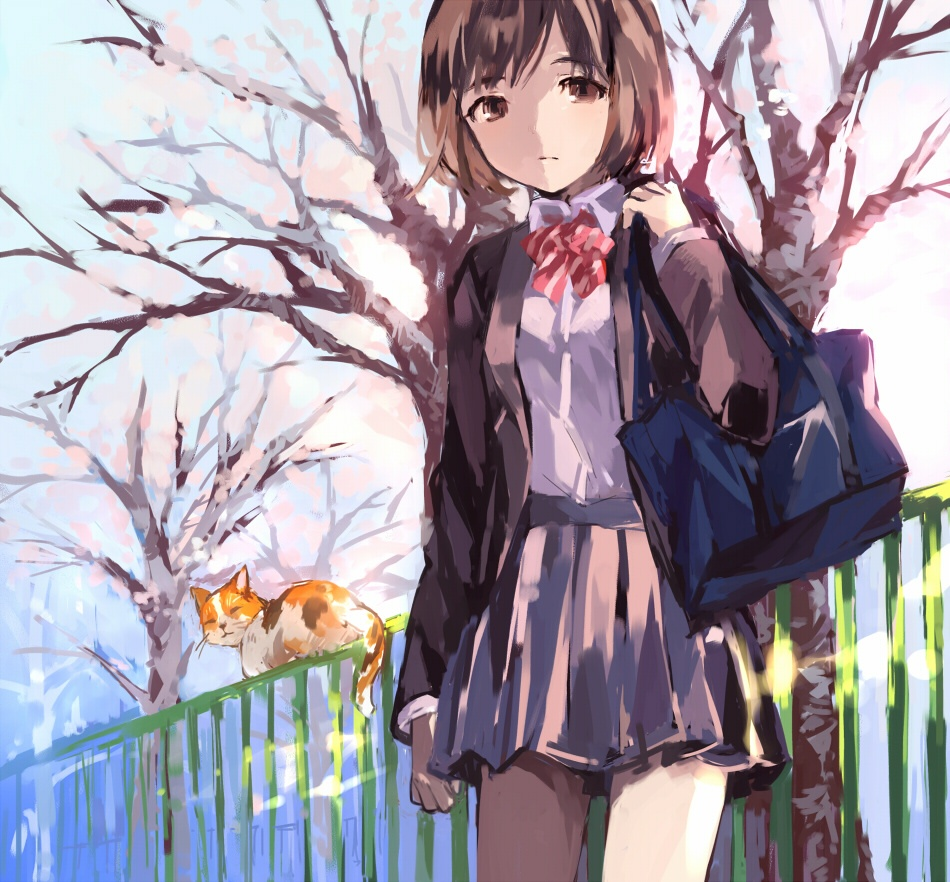纸片人正脸: (416, 7, 673, 195)
